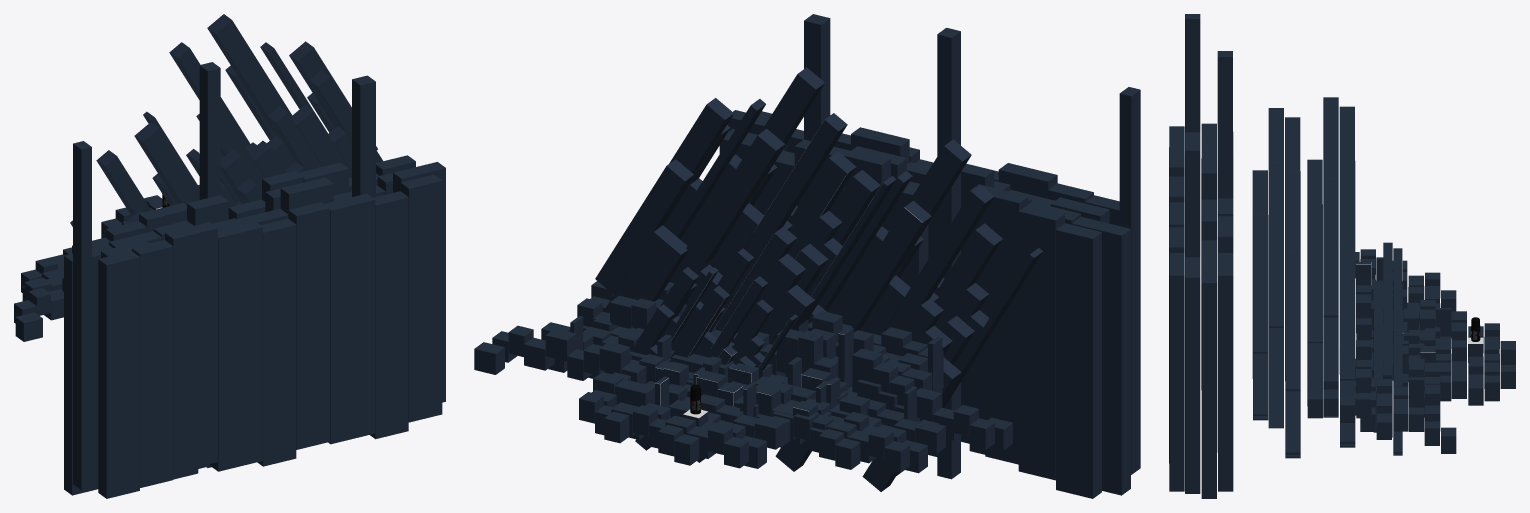
The model's file is STRYDE_60mL.fbx.
3 renders of one model, left to right at view 1: azimuth 30°, elevation 25°; view 2: azimuth 150°, elevation 25°; view 3: azimuth 270°, elevation 25°, orthographic. The views are drawn at different scales.
Parts seen in each view (by area): view 1: AbstractCubes; view 2: AbstractCubes; view 3: AbstractCubes.
Part boxes in pixels (bbox=[...]): AbstractCubes: bbox=[14, 14, 445, 498]; AbstractCubes: bbox=[474, 14, 1140, 498]; AbstractCubes: bbox=[1169, 14, 1515, 498].
Bounding box in the file's own units: 19550 × 16385 × 14032.
